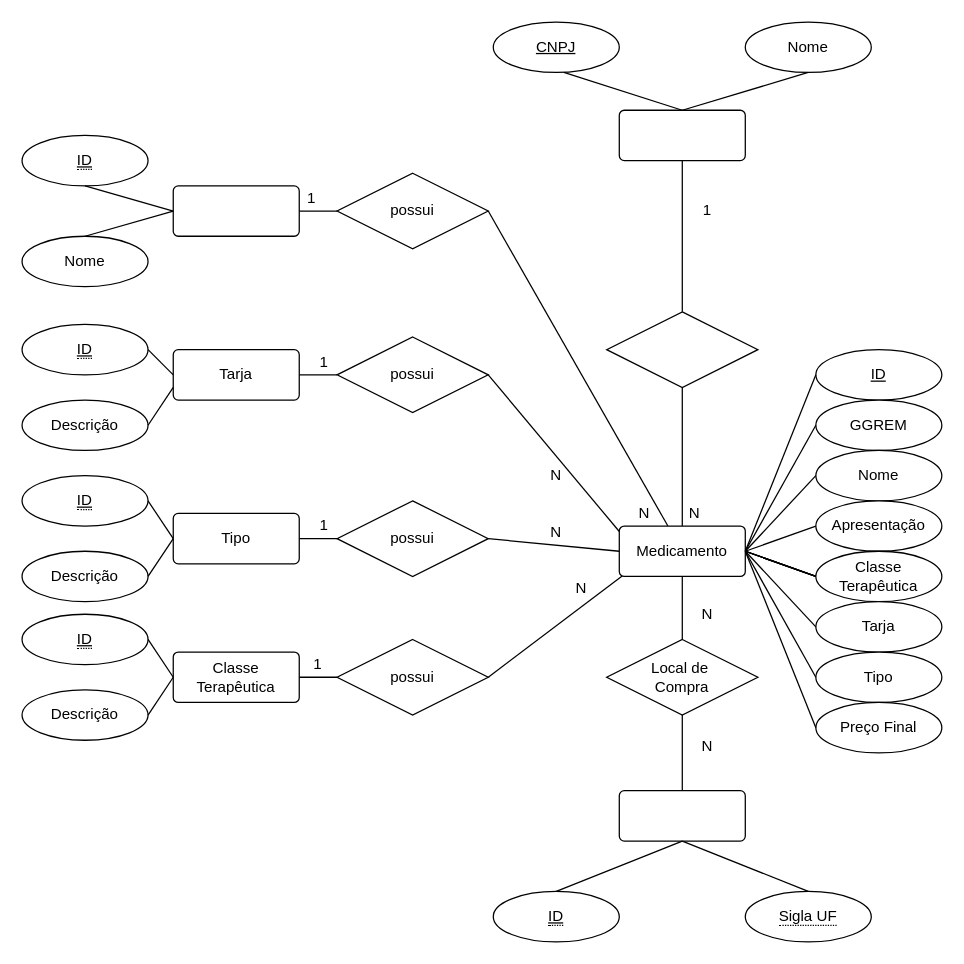
Image size: 964x964. Some labels were removed from this diagram. The centre of each missing label's shape, as x and y in pixels:
"Estado" goes at point (681, 815).
"Laboratório" goes at point (681, 135).
"Princípio Ativo" goes at point (235, 210).
"produzido" goes at point (681, 349).
